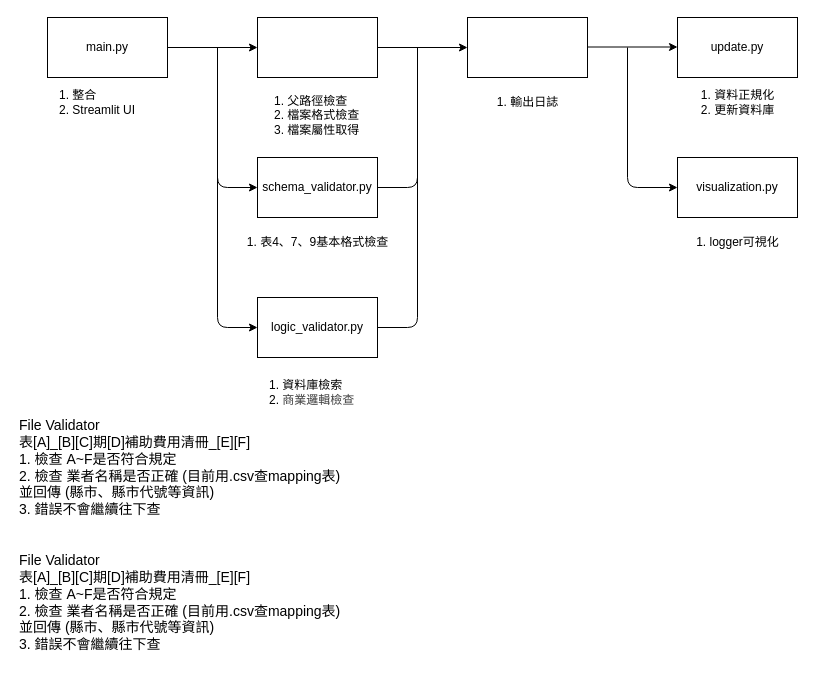
Some shapes in this 815 by 675 pixel diagram are drawn without their labels. The shapes that lost their labels are listed below. From the top down, each one's centre as x and y in pixels, then its label:
At point 317,47: "file_validator.py".
At point 527,47: "logger.py".
